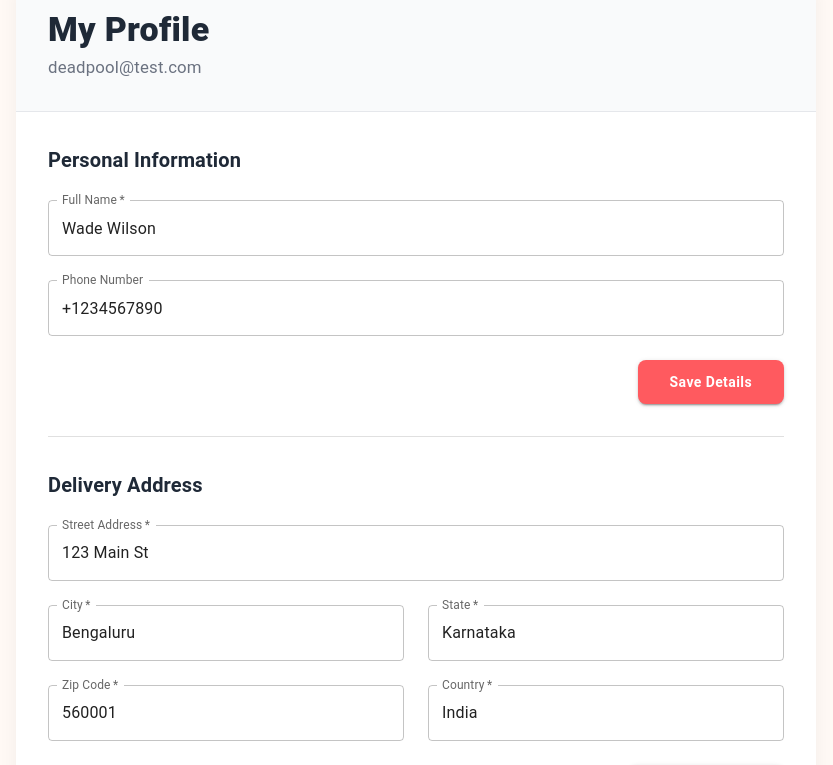
Scenario: ProfilePage › validates personal details fields correctly
// Try submitting with empty name
Clear the field labelled "Full Name *" at (416, 228), box [48,200,784,256]
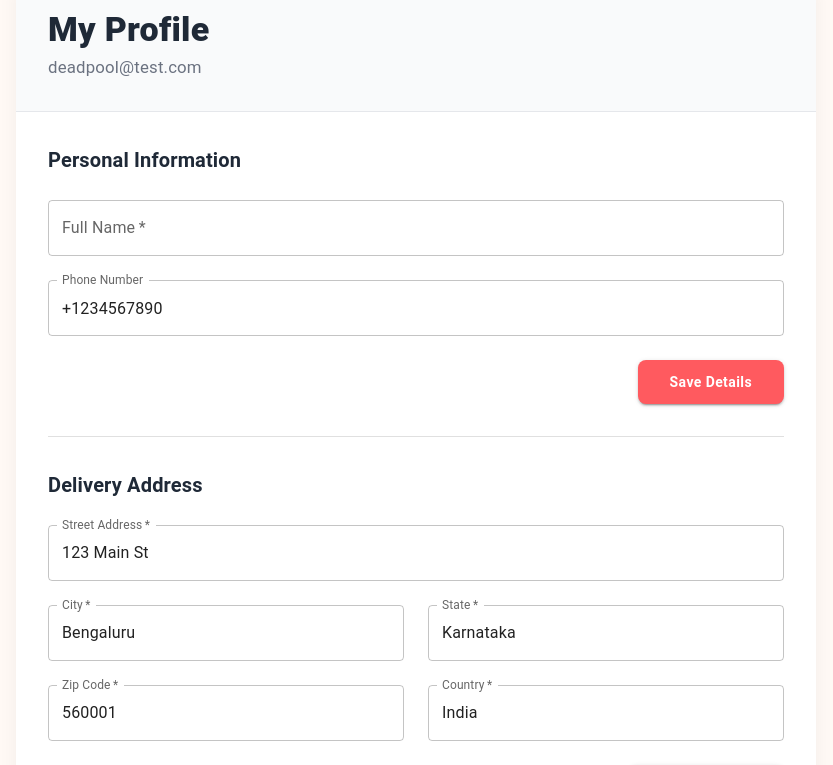
Click the button "Save Details".
click(711, 382)  # box [638,360,784,404]
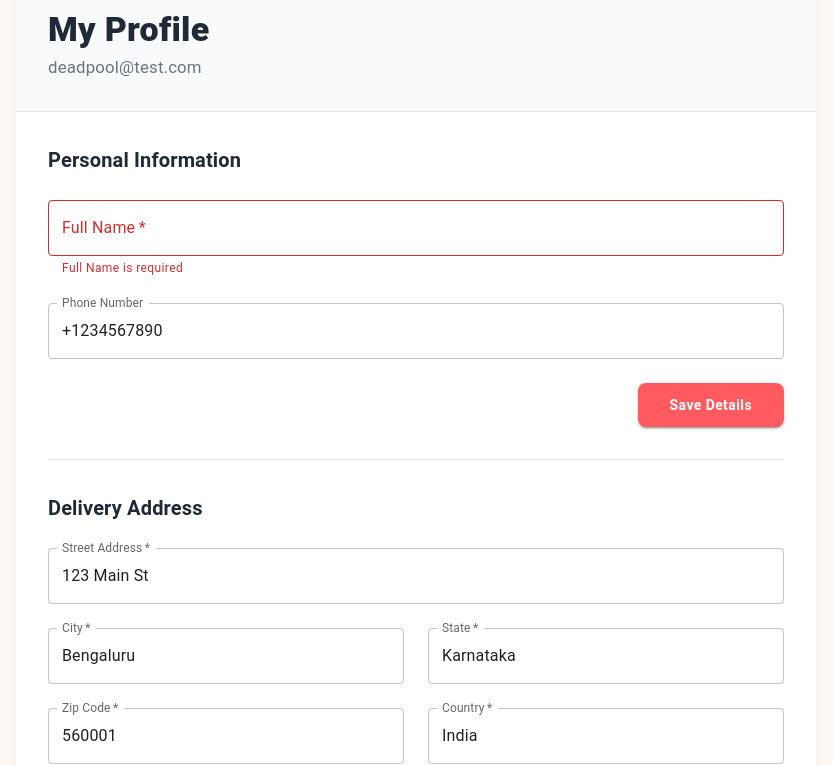
Result: the text "Full Name is required" is shown at [62,261,183,275]
// Try submitting with invalid phone format
Type "Wade" into the field labelled "Full Name *".
click(416, 228); type("Wade")  # box [48,200,784,256]
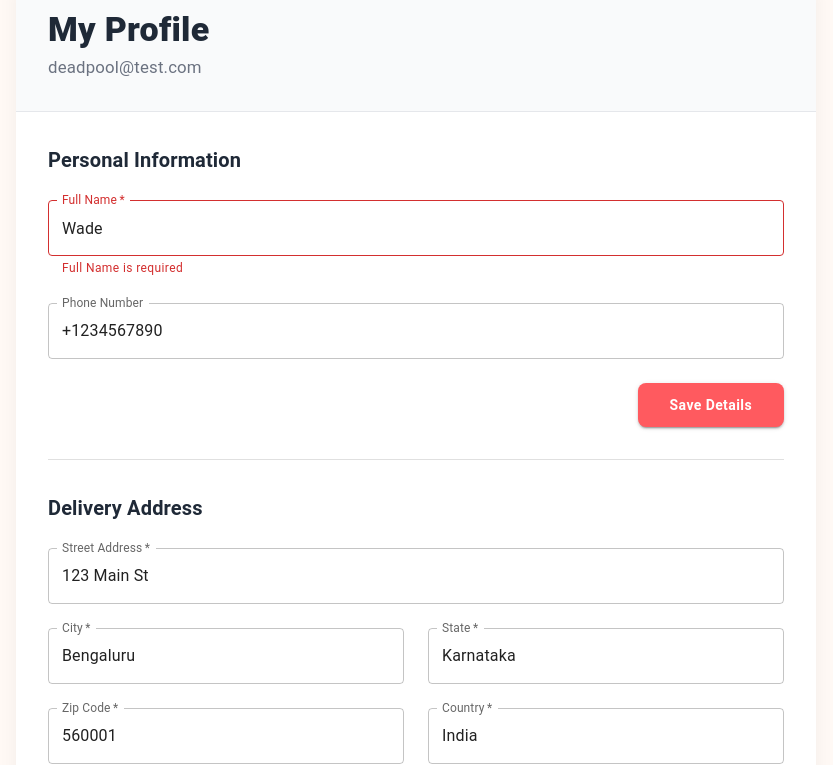
Replace the text in the field labelled "Phone Number" with "invalid-phone" at (416, 331), box [48,303,784,359]
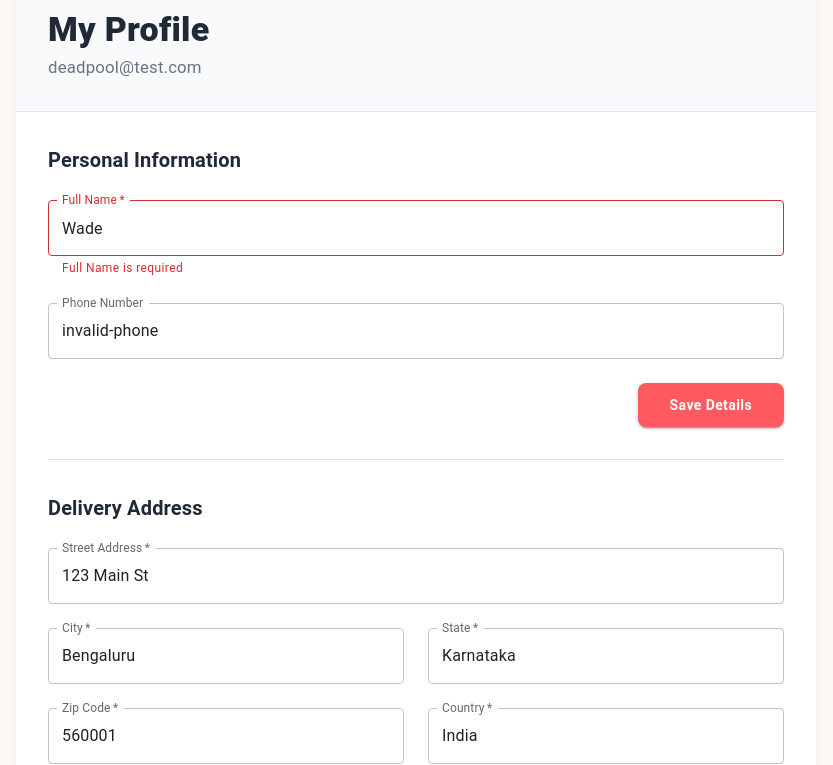
Click the button "Save Details".
click(711, 405)  # box [638,383,784,427]
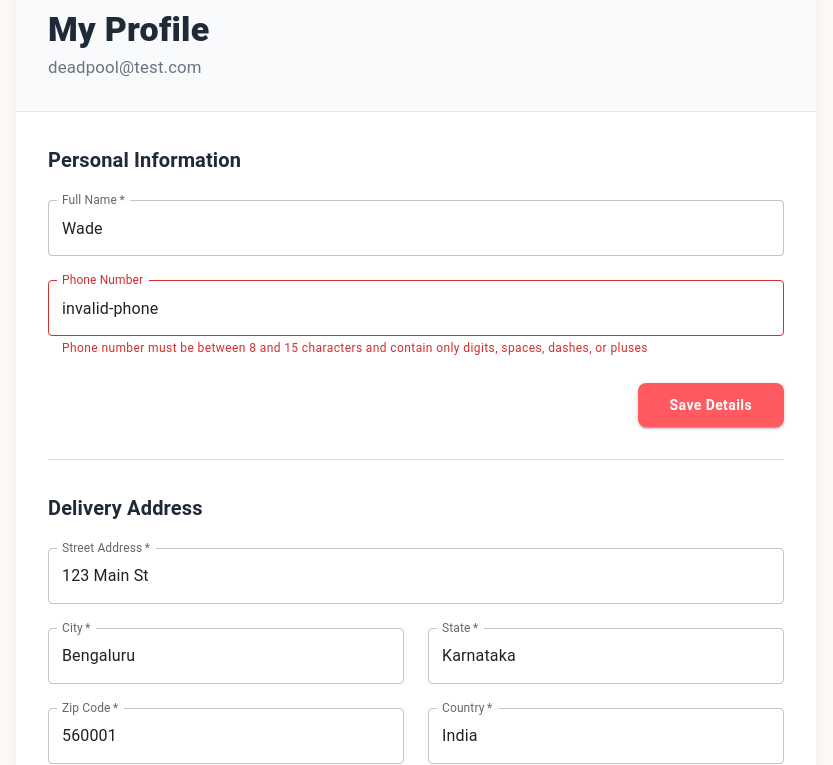
Result: the text "Phone number must be" is shown at [62,341,648,355]
